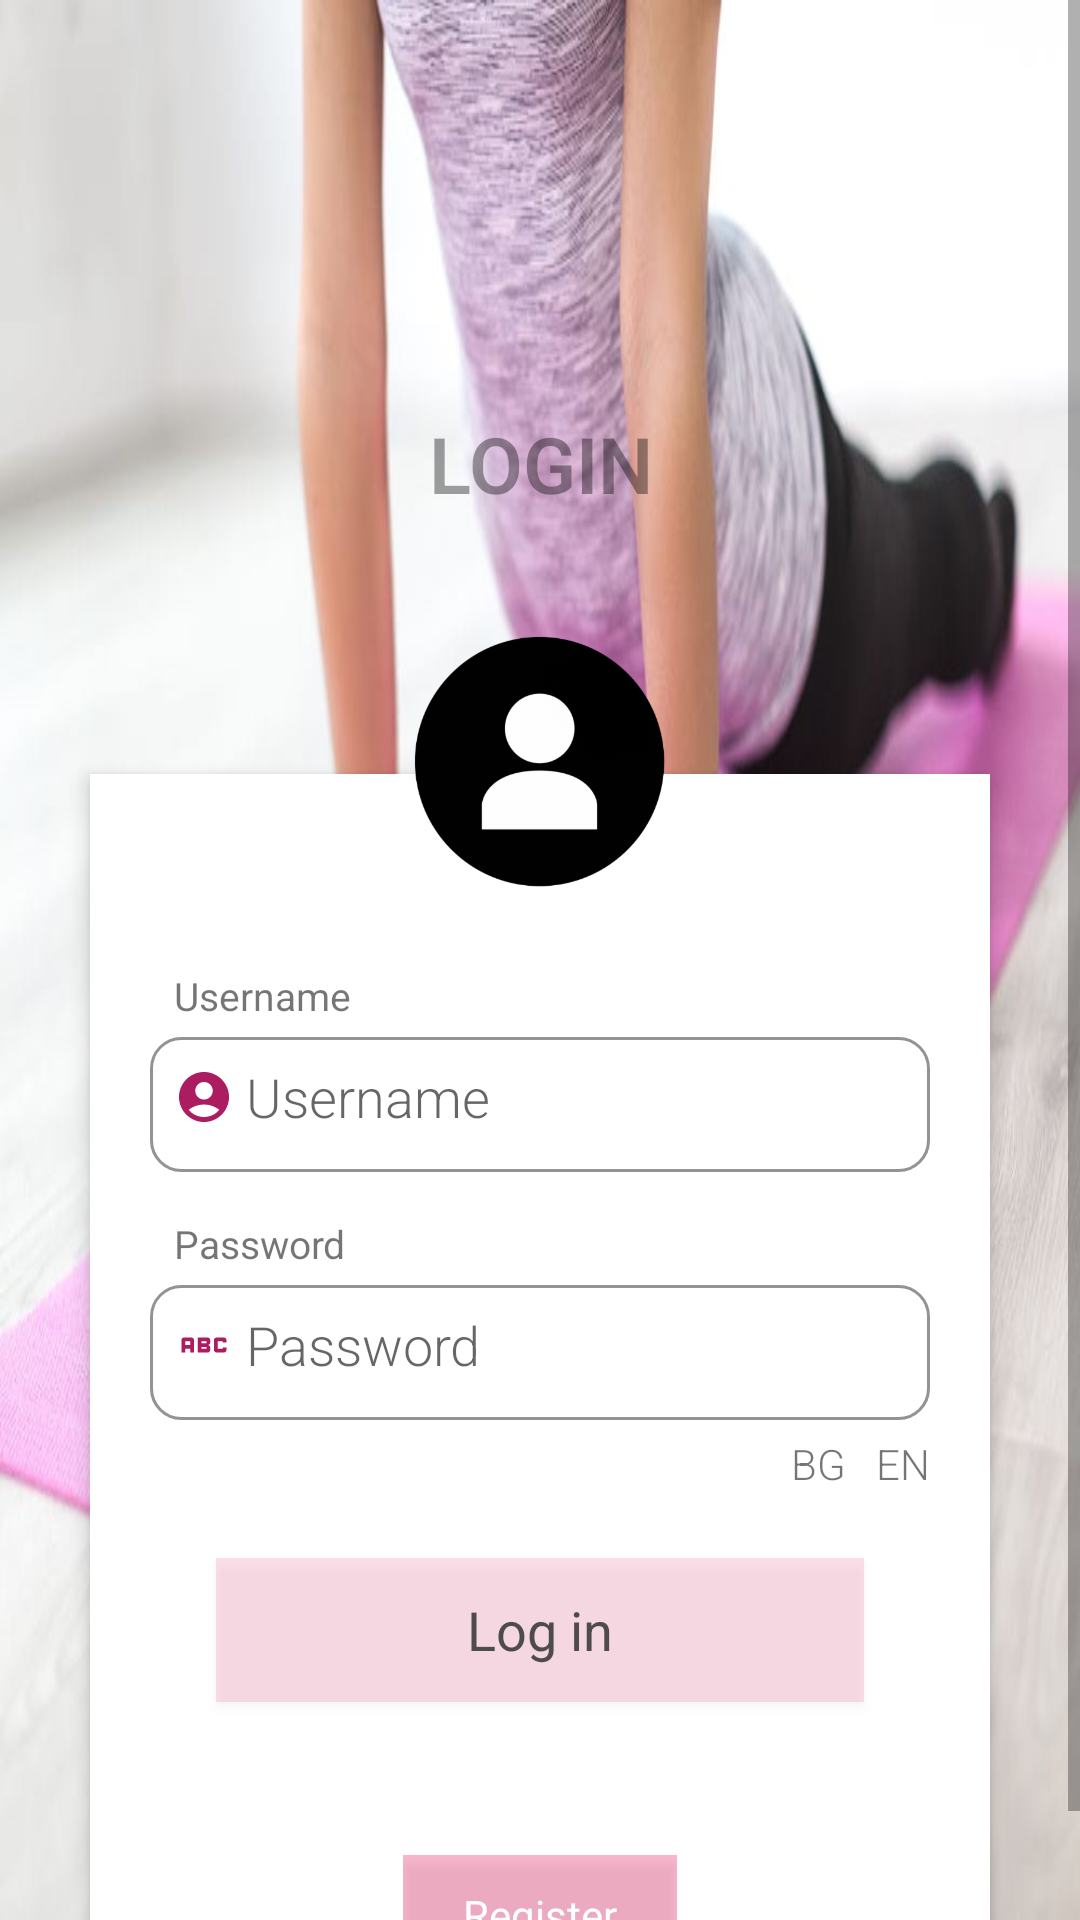

Icons on this 1080w x 1920h Android screen, each with the point to tap as [x,y]:
account: [204,1097]
profile: [540,762]
